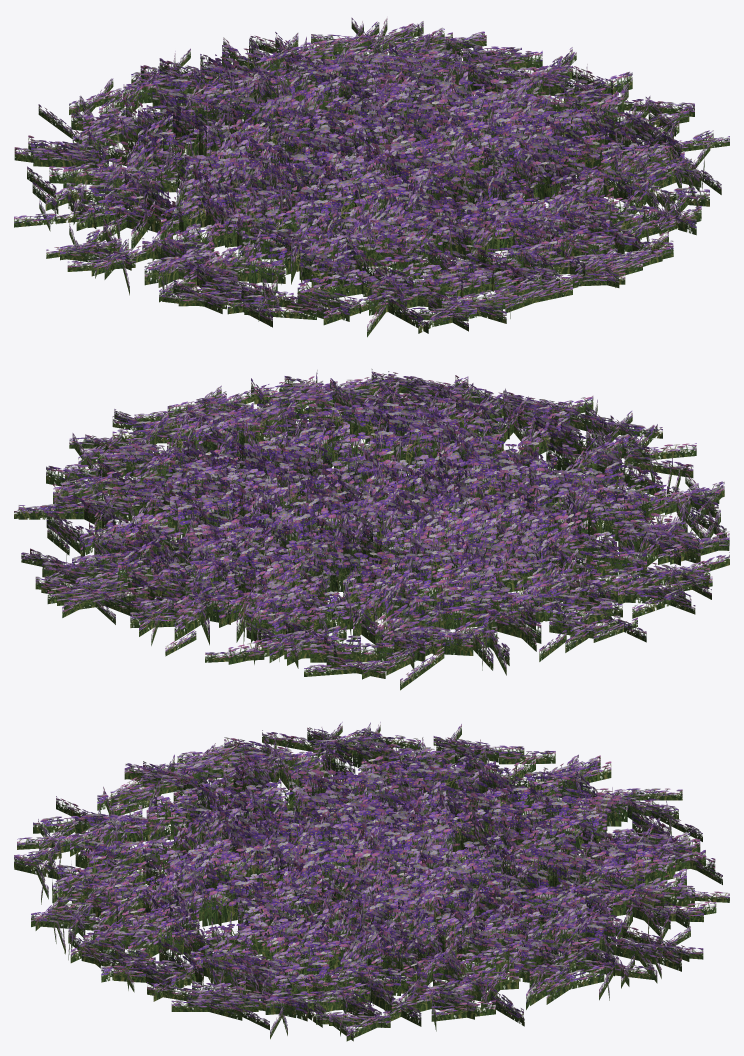
Rendered from grass_c.glb.
3 views of the same model, one above another, from view 1: azimuth 30°, elevation 25°; view 2: azimuth 150°, elevation 25°; view 3: azimuth 270°, elevation 25° (orthographic).
Parts seen in each view (by area): view 1: grass_c; view 2: grass_c; view 3: grass_c.
Boxes of the visible parts, x1,y1,x2,y2 form: grass_c: [14, 17, 729, 337]; grass_c: [14, 369, 729, 690]; grass_c: [14, 722, 729, 1041].
Size of the model in its own units: 6.97 by 0.4763 by 6.79.
Materials: 1 (1 with a texture image).
